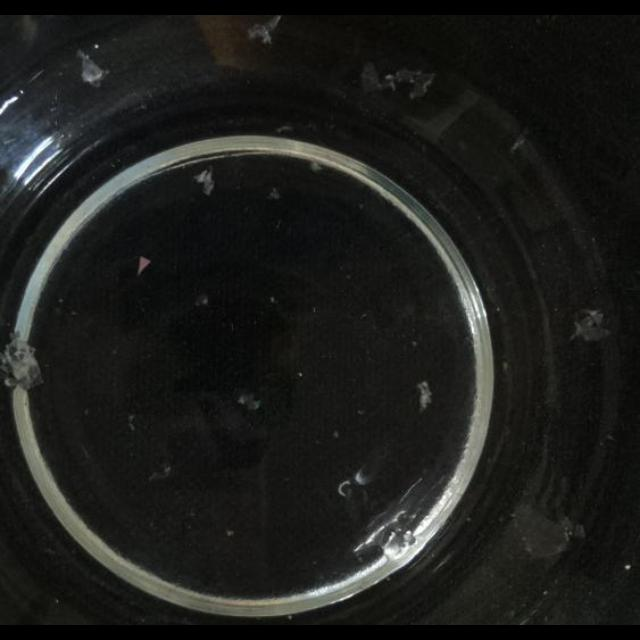Fibre: (514, 504, 578, 560), (1, 336, 45, 392), (570, 310, 610, 344), (76, 49, 108, 86), (248, 15, 284, 45), (407, 70, 437, 100), (193, 168, 215, 198), (236, 392, 262, 412), (416, 380, 432, 412), (148, 463, 172, 483), (510, 134, 526, 154), (267, 187, 281, 200), (127, 414, 137, 432), (310, 161, 324, 173), (275, 126, 293, 134)
microbeads: (136, 256, 152, 276), (194, 294, 208, 306), (624, 562, 632, 570)
